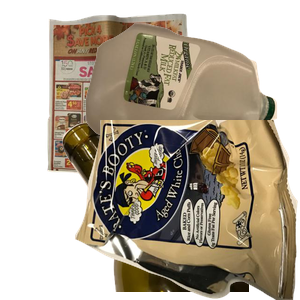glass: (60, 120, 300, 300)
paper: (44, 11, 229, 181)
plastic: (83, 21, 300, 162)
trash: (75, 120, 300, 300)
